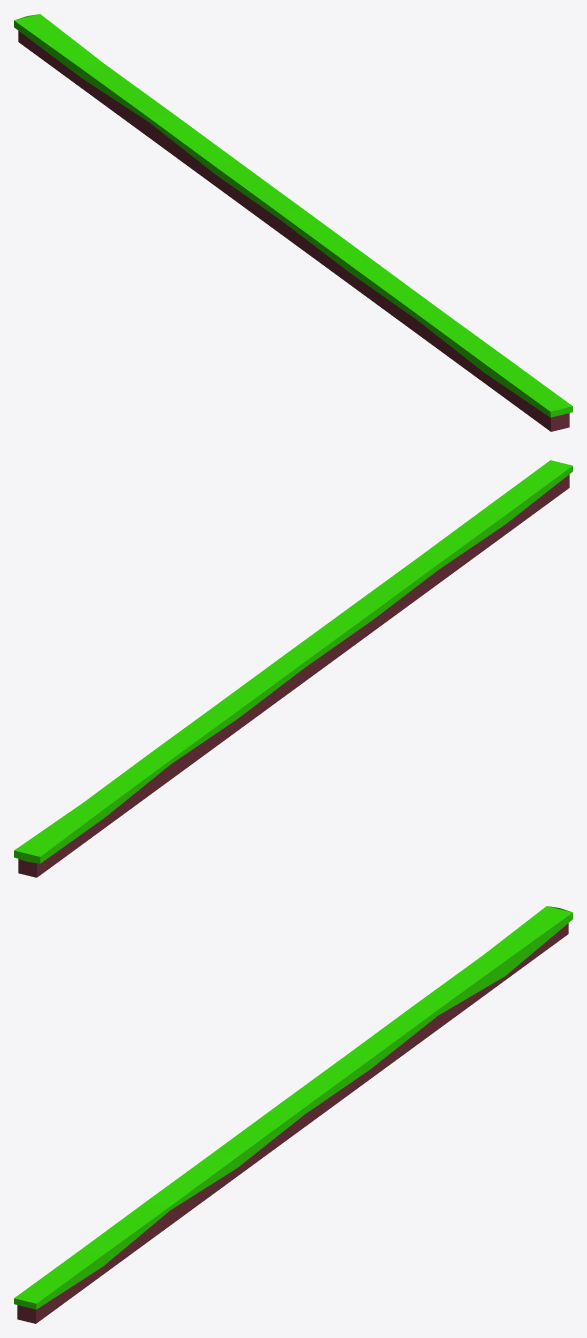
The model's file is relvafbx.fbx.
The picture shows the model from 3 angles, top to bottom: view 1: azimuth 30°, elevation 25°; view 2: azimuth 150°, elevation 25°; view 3: azimuth 330°, elevation 25°; orthographic projection.
Parts seen in each view (by area): view 1: Cube.001, Cube; view 2: Cube.001, Cube; view 3: Cube.001, Cube.
Part boxes in pixels (bbox=[...]): Cube.001: bbox=[14, 14, 572, 417]; Cube: bbox=[18, 31, 569, 431]; Cube.001: bbox=[14, 460, 572, 863]; Cube: bbox=[18, 474, 569, 877]; Cube.001: bbox=[14, 906, 572, 1309]; Cube: bbox=[17, 923, 568, 1323].
Bounding box in the file's own units: 285 × 244 × 10037.
